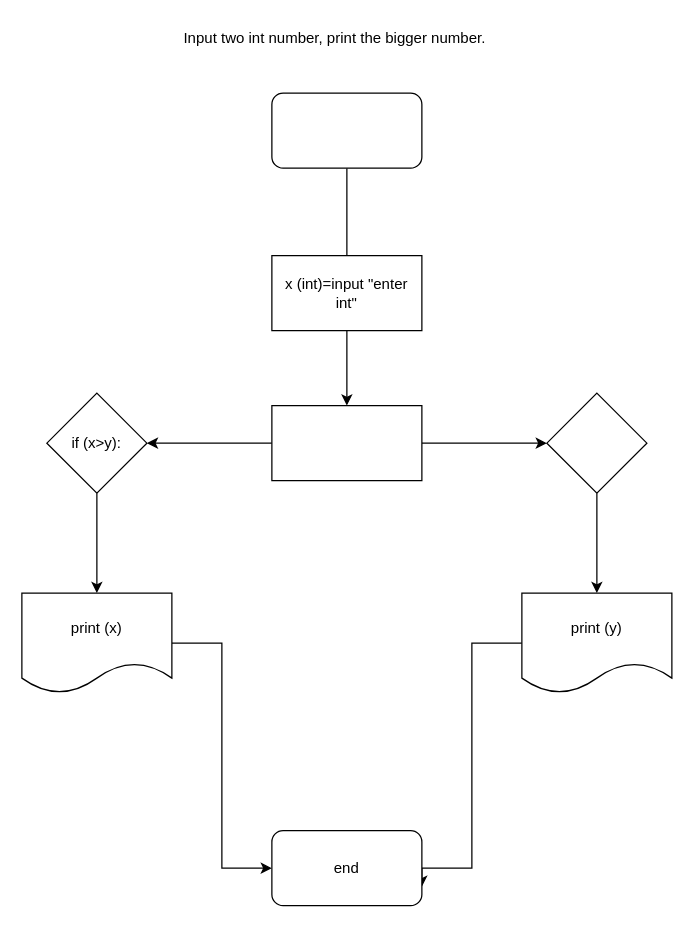
Image size: 694x928. Some labels were removed from this diagram. The shapes that lost their labels are listed below. From the top down, each one's centre as x and y in pixels, then its label:
the point at 346,130: start
the point at 346,442: y (int)=input "enter second int"
the point at 596,442: else:
